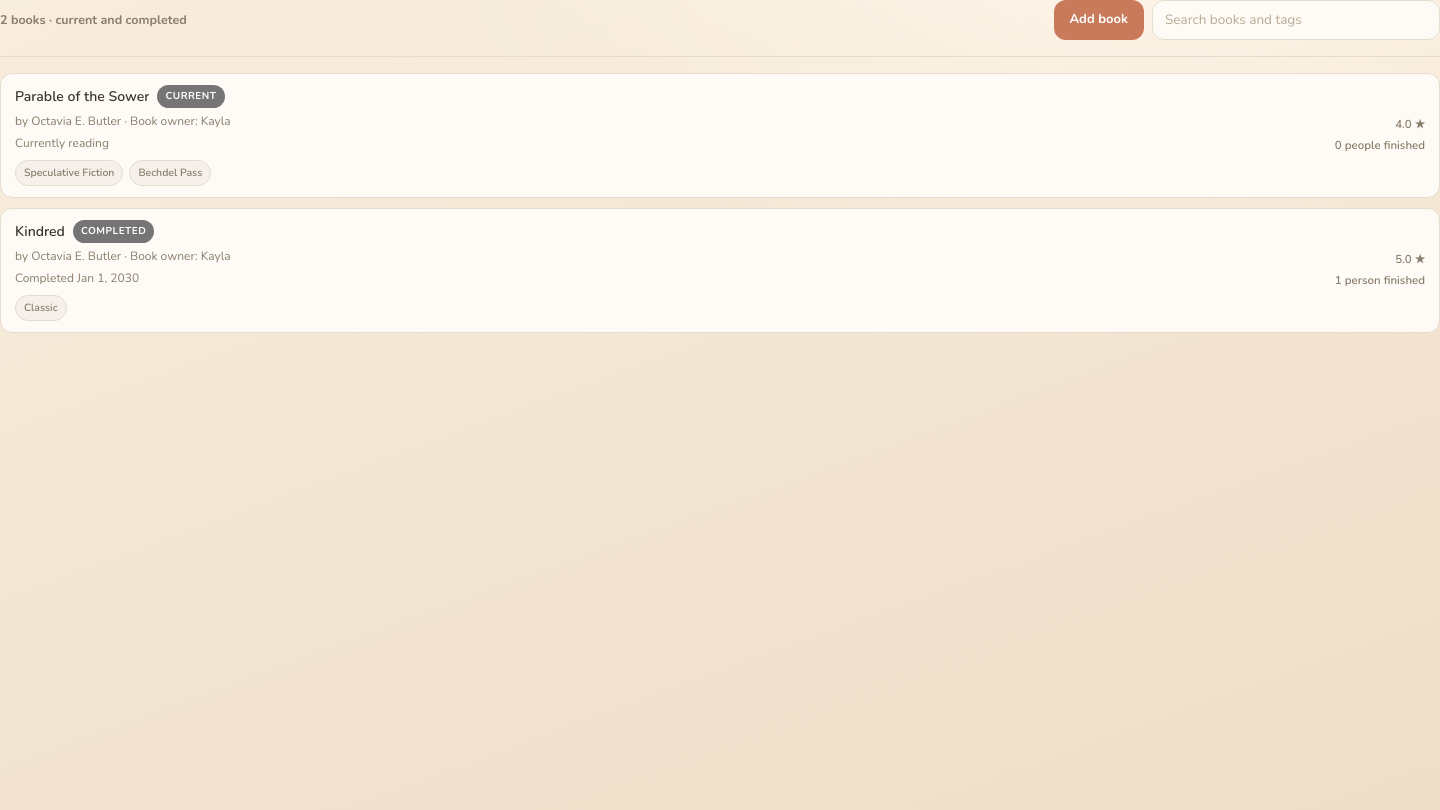
Scenario: BookClubLibrary › includes custom tags in library search
Type "Bechdel" into the search field labelled "Search books".
click(1296, 20); type("Bechdel")  # box 1152,0 -> 1439,40
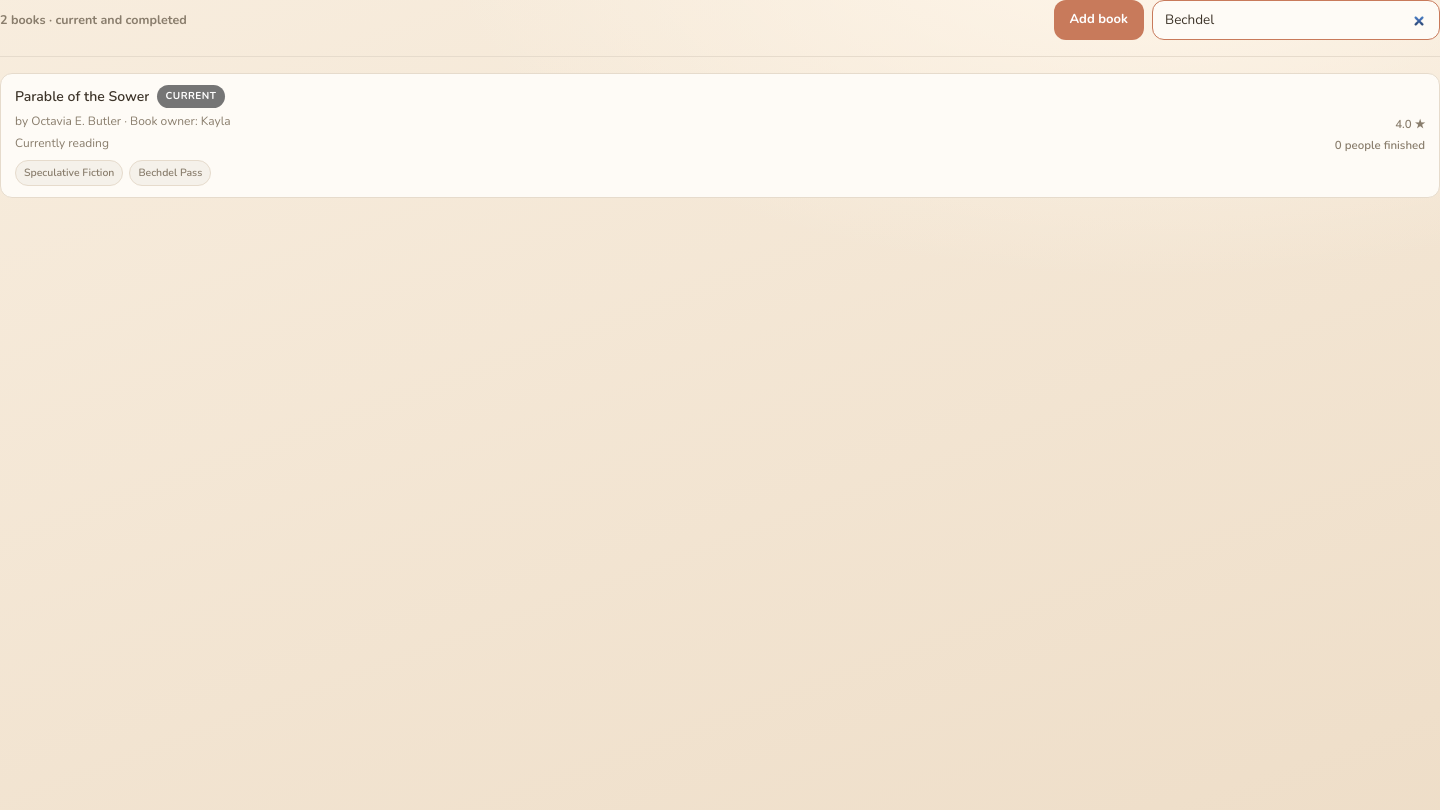
Expected: the button "Parable of the Sower" is shown, 0,73 -> 1439,198
Result: the button "Kindred" is gone
